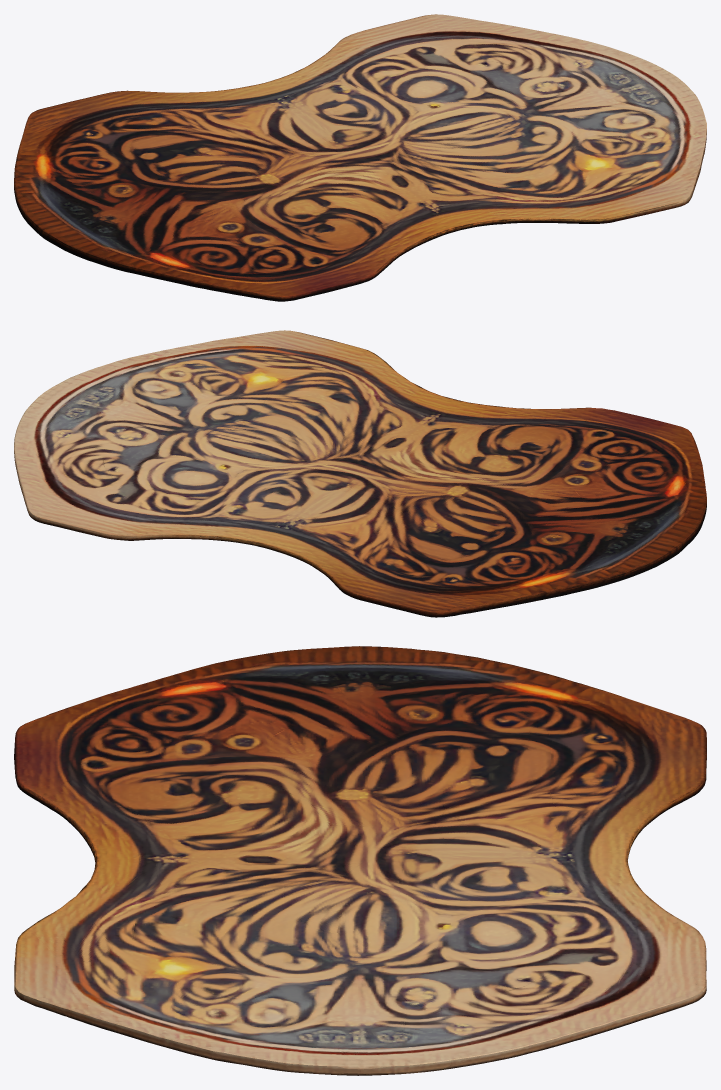
Rendered from wooden-belt-buckle-futuristic.jpeg.glb.
The picture shows the model from 3 angles, top to bottom: view 1: azimuth 30°, elevation 25°; view 2: azimuth 150°, elevation 25°; view 3: azimuth 270°, elevation 25°; orthographic projection. The views are drawn at different scales.
Parts seen in each view (by area): view 1: world; view 2: world; view 3: world.
Boxes of the visible parts, x1=… form: world: x1=14, y1=14, x2=706, y2=301; world: x1=14, y1=330, x2=706, y2=617; world: x1=14, y1=646, x2=706, y2=1075.
Bounding box in the file's own units: 1 × 0.0127 × 0.6981.
1 material, 1 textured.
